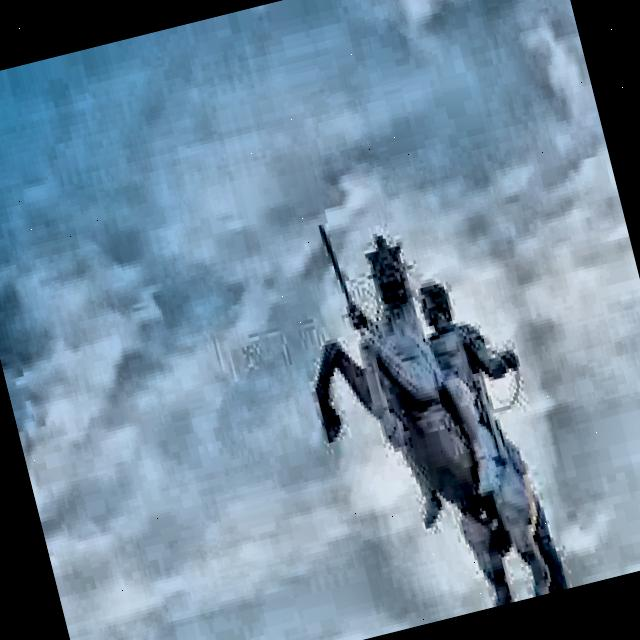alexander the great monument: (266, 172, 572, 632)
